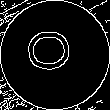O_E: (29, 32, 81, 78)
